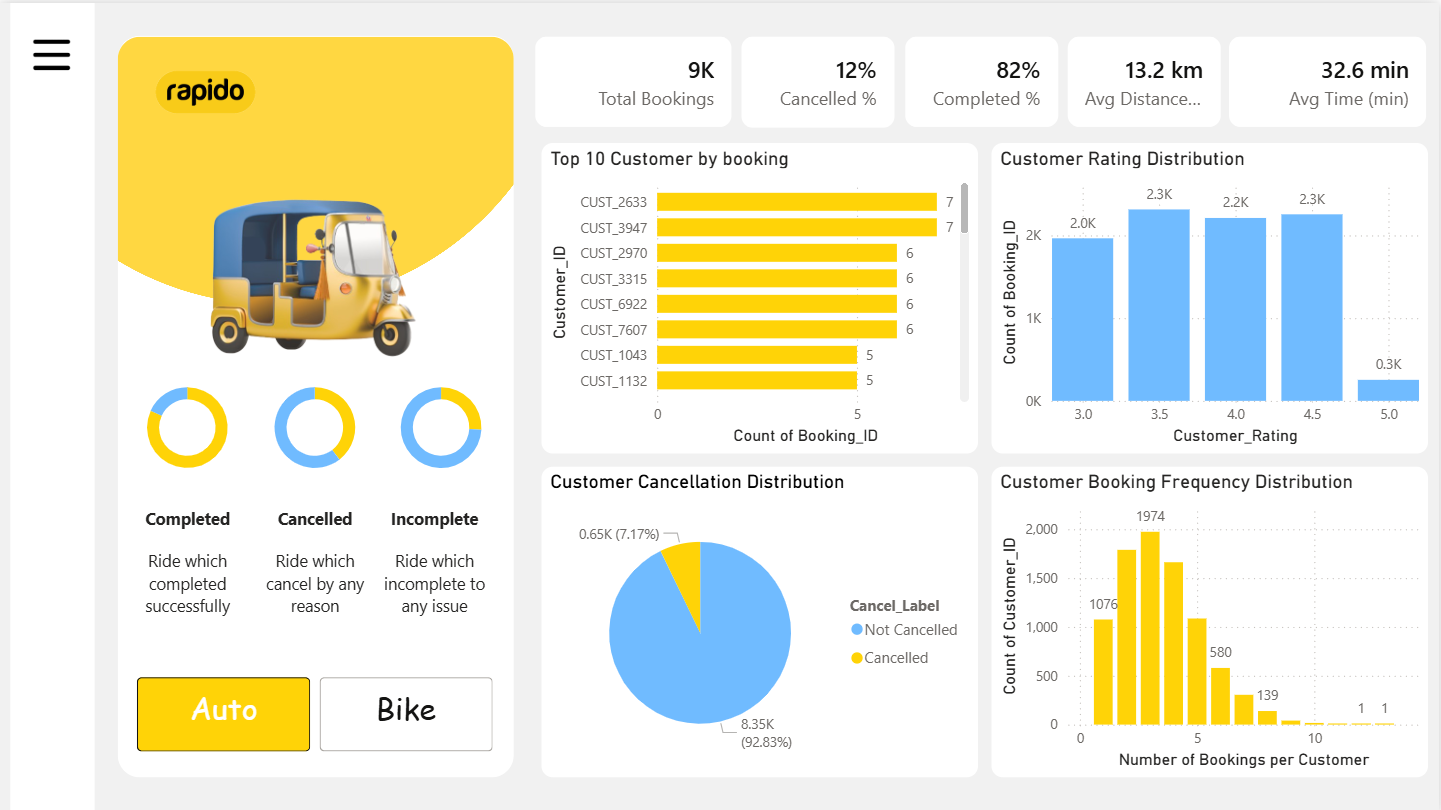

What the dashboard file says about the page in this screenshot:
{"tool":"powerbi","page":{"name":"Customer Insights","canvas":[1280,720],"ordinal":2},"visuals":[{"type":"shape","box":[105.3,28.9,352,659.3],"z":0},{"type":"image","box":[105,30.3,352.4,658.5],"z":1000},{"type":"shape","box":[10.1,0,75,719.9],"z":2000},{"type":"image","box":[20.2,24.5,53.4,43.3],"z":3000},{"type":"cardVisual","fields":{"Data":["Measure.Total Bookings"]},"box":[477,30.3,174.4,80.1],"z":4000},{"type":"cardVisual","fields":{"Data":["Measure.Cancelled %"]},"box":[660,30,135.6,80.8],"z":5000},{"type":"cardVisual","fields":{"Data":["Measure.Completed %"]},"box":[805,30,135.6,80],"z":6000},{"type":"image","box":[105.3,30.3,155.8,98.1],"z":7000},{"type":"cardVisual","fields":{"Data":["Measure.Avg Distance"]},"box":[950,30,135.6,80],"z":8000},{"type":"cardVisual","fields":{"Data":["Measure.Avg Time"]},"box":[1093.6,30,175,80],"z":9000},{"type":"advancedSlicerVisual","fields":{"Values":["Rapido.Vehicle_Type"]},"box":[118.3,594.4,326.1,76.5],"z":10000},{"type":"image","box":[156.9,118.5,249.4,241.1],"z":11000},{"type":"donutChart","fields":{"Y":["Measure.Completed","Measure.Completed Remaining"]},"box":[117.5,327.5,99.7,99.7],"z":12000},{"type":"donutChart","fields":{"Y":["Measure.Incomplete","Measure.Incompleted Remaining"]},"box":[343.5,327.5,99.7,99.7],"z":13000},{"type":"donutChart","fields":{"Y":["Measure.Cancelled","Measure.Cancelled Remaining"]},"box":[231.4,327.5,99.7,99.7],"z":14000},{"type":"textbox","box":[117.5,443.2,99.7,144.2],"z":15000},{"type":"textbox","box":[231.4,443.2,99.7,151.3],"z":16000},{"type":"textbox","box":[331,443.2,112.1,144.2],"z":17000},{"type":"clusteredBarChart","title":"Top 10 Customer by booking","fields":{"Category":["Rapido.Customer_ID"],"Y":["CountNonNull(Rapido.Booking_ID)"]},"box":[482,124,388,276],"z":18000},{"type":"clusteredColumnChart","title":"Customer Rating Distribution ","fields":{"Category":["Rapido.Customer_Rating (bins)"],"Y":["CountNonNull(Rapido.Booking_ID)"]},"box":[882,124,388,276],"z":19000},{"type":"pieChart","title":"Customer Cancellation Distribution","fields":{"Category":["Rapido.Cancel_Label"],"Y":["CountNonNull(Rapido.Booking_ID)"]},"box":[482,412,388,276],"z":20000},{"type":"clusteredColumnChart","title":"Customer Booking Frequency Distribution","fields":{"Category":["Customer Booking Summary.Booking Count (bins)"],"Y":["CountNonNull(Customer Booking Summary.Customer_ID)"]},"box":[882,412,388,276],"z":21000}]}

Visuals, with their boxes in screenshot pixels (x1, y1, x2, y2), scaled from the page's 1280x720 canvas onto the 1441x810 screenshot:
shape: {"left": 119, "top": 33, "right": 515, "bottom": 774}
image: {"left": 118, "top": 34, "right": 515, "bottom": 775}
shape: {"left": 11, "top": 0, "right": 96, "bottom": 809}
image: {"left": 23, "top": 28, "right": 83, "bottom": 76}
cardVisual - Measure.Total Bookings: {"left": 537, "top": 34, "right": 733, "bottom": 124}
cardVisual - Measure.Cancelled %: {"left": 743, "top": 34, "right": 896, "bottom": 125}
cardVisual - Measure.Completed %: {"left": 906, "top": 34, "right": 1059, "bottom": 124}
image: {"left": 119, "top": 34, "right": 294, "bottom": 144}
cardVisual - Measure.Avg Distance: {"left": 1069, "top": 34, "right": 1222, "bottom": 124}
cardVisual - Measure.Avg Time: {"left": 1231, "top": 34, "right": 1428, "bottom": 124}
advancedSlicerVisual - Rapido.Vehicle_Type: {"left": 133, "top": 669, "right": 500, "bottom": 755}
image: {"left": 177, "top": 133, "right": 457, "bottom": 405}
donutChart - Measure.Completed x Measure.Completed Remaining: {"left": 132, "top": 368, "right": 245, "bottom": 481}
donutChart - Measure.Incomplete x Measure.Incompleted Remaining: {"left": 387, "top": 368, "right": 499, "bottom": 481}
donutChart - Measure.Cancelled x Measure.Cancelled Remaining: {"left": 261, "top": 368, "right": 373, "bottom": 481}
textbox: {"left": 132, "top": 499, "right": 245, "bottom": 661}
textbox: {"left": 261, "top": 499, "right": 373, "bottom": 669}
textbox: {"left": 373, "top": 499, "right": 499, "bottom": 661}
"Top 10 Customer by booking" clusteredBarChart: {"left": 543, "top": 140, "right": 979, "bottom": 450}
"Customer Rating Distribution " clusteredColumnChart: {"left": 993, "top": 140, "right": 1430, "bottom": 450}
"Customer Cancellation Distribution" pieChart: {"left": 543, "top": 464, "right": 979, "bottom": 774}
"Customer Booking Frequency Distribution" clusteredColumnChart: {"left": 993, "top": 464, "right": 1430, "bottom": 774}
